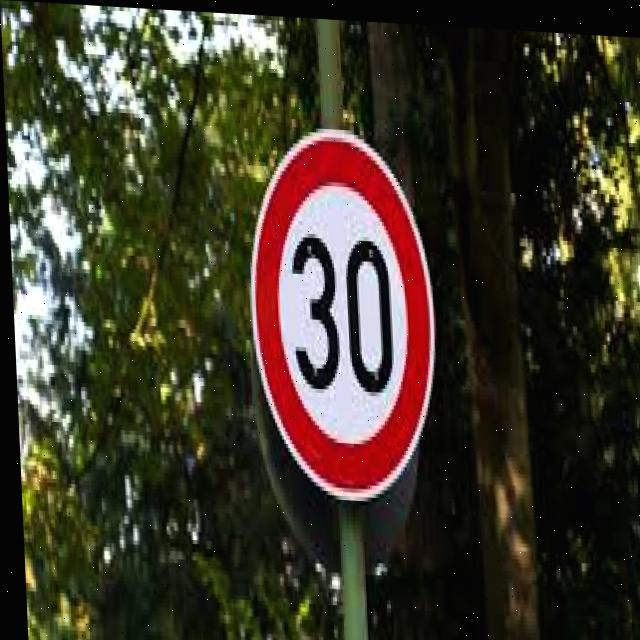Speed limit 30: (240, 114, 441, 506)
